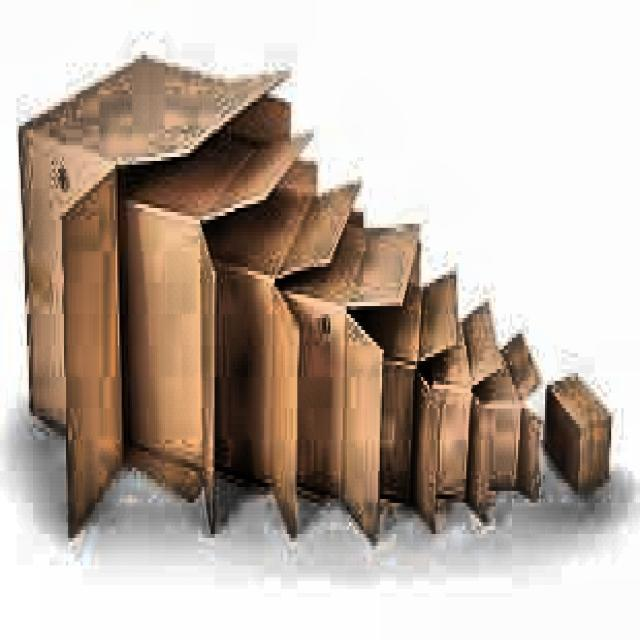cardboard: (17, 51, 610, 542)
